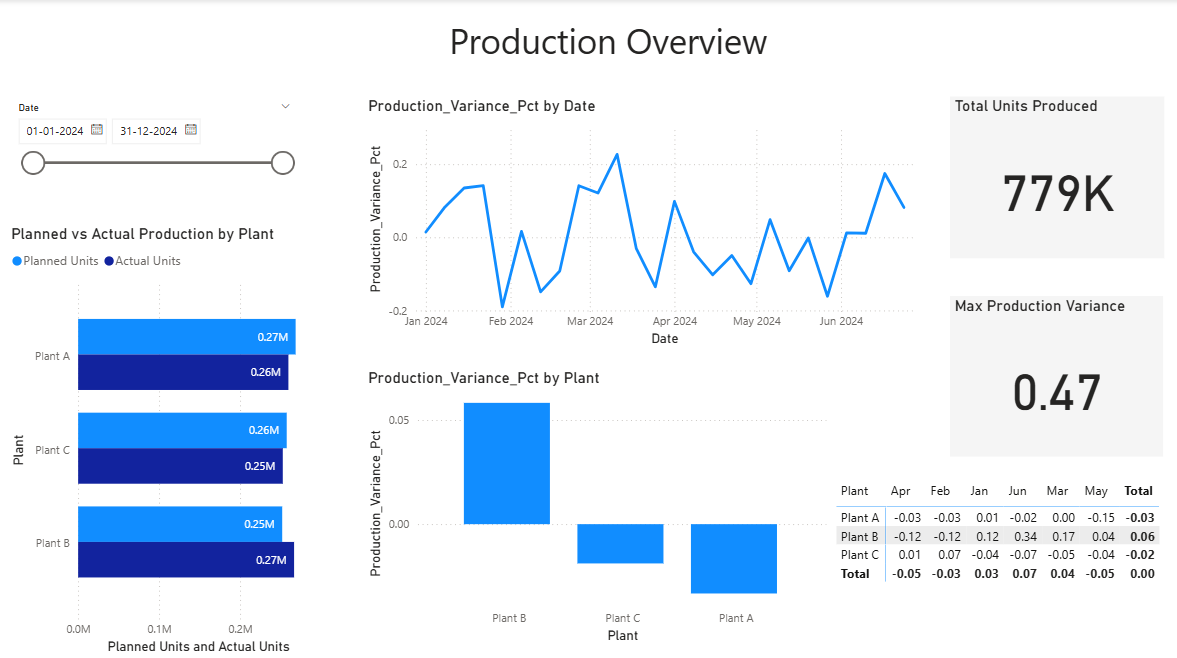

The dashboard page shown, as its layout file describes it:
{"tool":"powerbi","page":{"name":"Production Overview","canvas":[1280,720],"ordinal":2},"visuals":[{"type":"textbox","box":[484.1,14.6,357.8,61.5],"z":0},{"type":"card","title":"Total Units Produced","fields":{"Values":["Production_Data.Actual_Units_Produced"]},"box":[1029.8,105.2,231.5,174.9],"z":1},{"type":"clusteredBarChart","title":"Planned vs Actual Production by Plant","fields":{"Category":["Production_Data.Plant"],"Y":["Sum(Production_Data.Planned_Units)","Production_Data.Actual_Units_Produced"]},"box":[11.3,242.9,356.2,468],"z":2},{"type":"clusteredColumnChart","fields":{"Category":["Production_Data.Plant"],"Y":["Production_Data.Production_Variance_Pct"]},"box":[396.7,398.3,505.2,301.2],"z":3},{"type":"card","title":"Max Production Variance","fields":{"Values":["Production_Data.Max_Production_Variance"]},"box":[1029.8,320.6,229.9,173.3],"z":4},{"type":"lineChart","fields":{"Category":["Production_Data.Date"],"Y":["Production_Data.Production_Variance_Pct"]},"box":[396.7,105.2,612.1,273.6],"z":5},{"type":"pivotTable","fields":{"Rows":["Production_Data.Plant"],"Columns":["DateTable.Month"],"Values":["Production_Data.Production_Variance_Pct"]},"box":[901.9,514.9,364.3,184.6],"z":6},{"type":"slicer","fields":{"Values":["DateTable.Date"]},"box":[11.3,105.2,319,115],"z":7}]}

Visuals, with their boxes in screenshot pixels (x1, y1, x2, y2), scaled from the page's 1280x720 canvas onto the 1177x658 screenshot:
textbox: rect(445, 13, 774, 70)
"Total Units Produced" card: rect(947, 96, 1160, 256)
"Planned vs Actual Production by Plant" clusteredBarChart: rect(10, 222, 338, 650)
clusteredColumnChart - Production_Data.Plant x Production_Data.Production_Variance_Pct: rect(365, 364, 829, 639)
"Max Production Variance" card: rect(947, 293, 1158, 451)
lineChart - Production_Data.Date x Production_Data.Production_Variance_Pct: rect(365, 96, 928, 346)
pivotTable - Production_Data.Plant x DateTable.Month: rect(829, 471, 1164, 639)
slicer - DateTable.Date: rect(10, 96, 304, 201)
